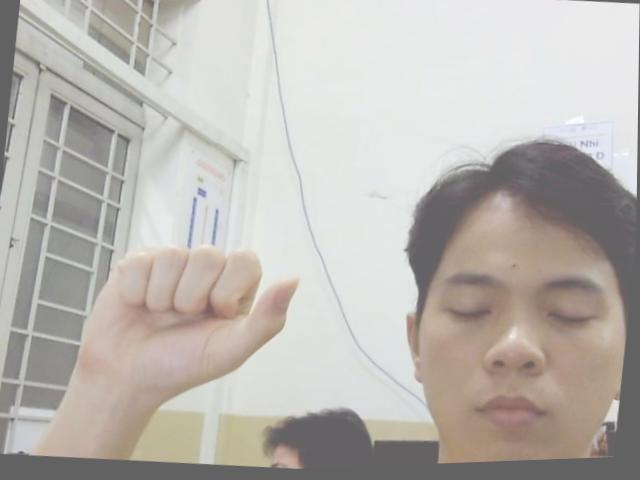A: (75, 226, 305, 402)
